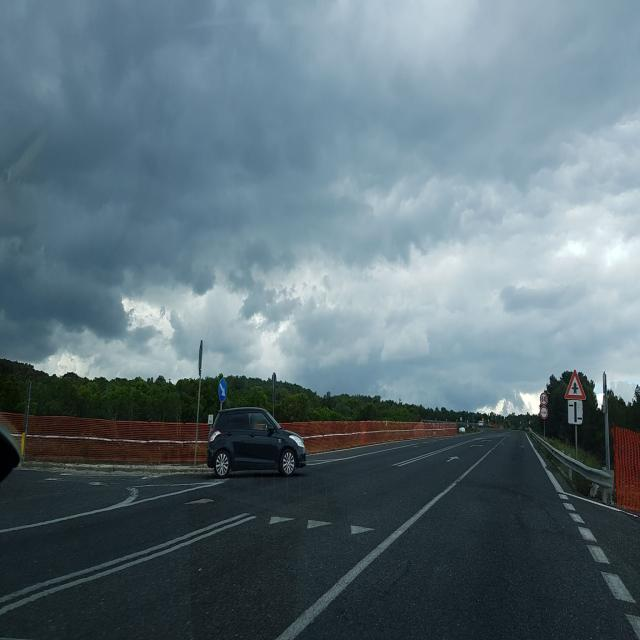car: (206, 405, 306, 478)
